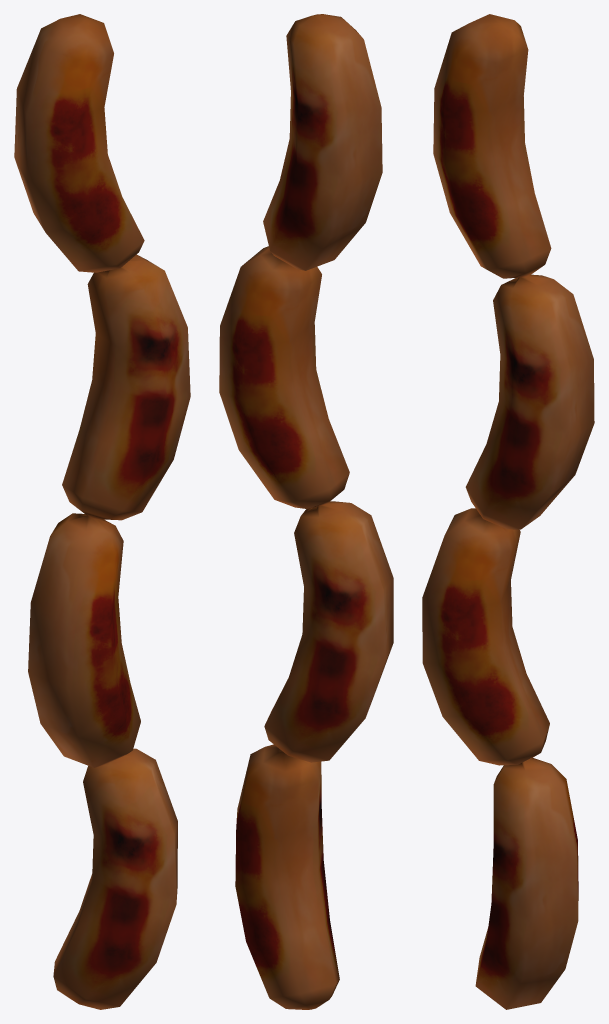
Rendered from sausage.gltf.
3 renders of one model, left to right at view 1: azimuth 30°, elevation 25°; view 2: azimuth 150°, elevation 25°; view 3: azimuth 330°, elevation 25°, orthographic.
Parts seen in each view (by area): view 1: Cylinder.003; view 2: Cylinder.003; view 3: Cylinder.003.
Part boxes in pixels (<box>): Cylinder.003: <box>14,14,190,1009</box>; Cylinder.003: <box>219,14,393,1009</box>; Cylinder.003: <box>422,14,594,1009</box>.
Size of the model in its own units: 5.65 by 35.19 by 3.84.
Materials: 1 (1 with a texture image).
